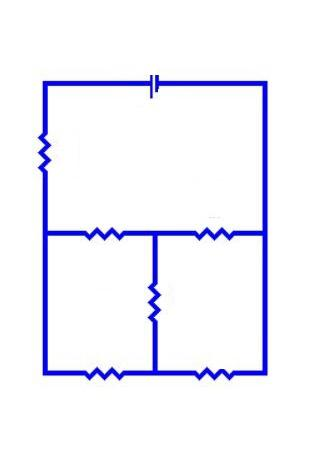resistor: (23, 116, 64, 191)
